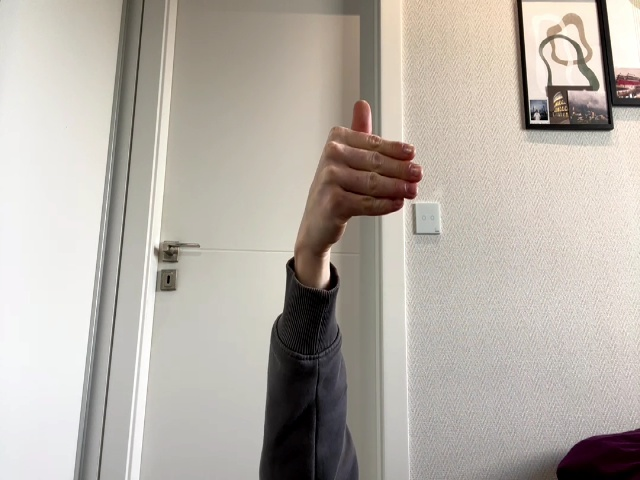M: (306, 100, 423, 250)
